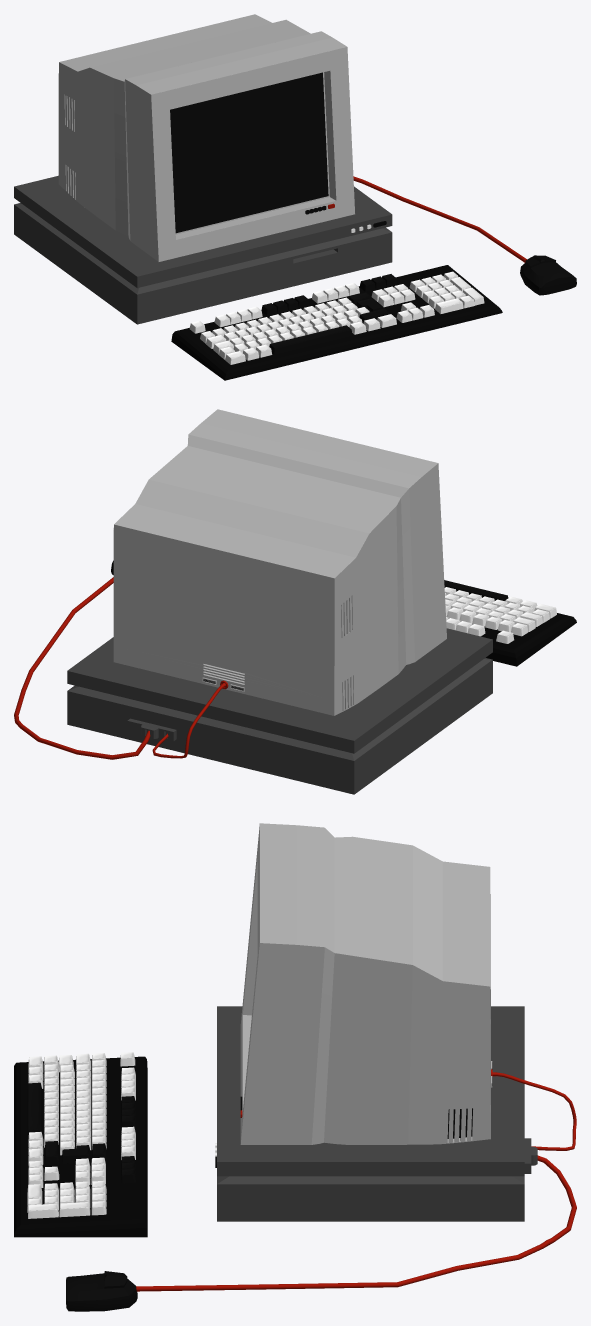
The model's file is retro_computer (1).glb.
3 views of the same model, one above another, from view 1: azimuth 30°, elevation 25°; view 2: azimuth 150°, elevation 25°; view 3: azimuth 270°, elevation 25° (orthographic). The views are drawn at different scales.
Visible parts, largest first — view 1: Cube.001, Cube, Cube.036, Plane, Cube.002, Plane.005; view 2: Cube.001, Cube, Cube.036, Plane, Plane.005, Circle.006; view 3: Cube.001, Cube, Cube.036, Plane, Plane.005, Cube.002, Circle.006.
Boxes of the visible parts, x1,y1,x2,y2 form: Cube.001: (58, 14, 354, 261); Cube: (14, 175, 392, 324); Cube.036: (189, 271, 484, 364); Plane: (171, 265, 502, 380); Cube.002: (520, 255, 576, 295); Plane.005: (353, 176, 526, 262); Cube.001: (113, 409, 446, 715); Cube: (67, 628, 492, 794); Cube.036: (444, 580, 556, 643); Plane: (472, 613, 576, 666); Plane.005: (14, 577, 150, 759); Circle.006: (152, 680, 228, 758); Cube.001: (240, 823, 492, 1144); Cube: (217, 1006, 537, 1221); Cube.036: (27, 1052, 135, 1218); Plane: (14, 1056, 147, 1237); Plane.005: (136, 1155, 576, 1291); Cube.002: (66, 1271, 137, 1311); Circle.006: (491, 1069, 576, 1150).
Bounding box in the file's own units: 4.18 × 2.32 × 4.29.
1 material, 1 textured.
